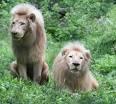lion: (9, 6, 49, 86), (54, 45, 97, 94)
